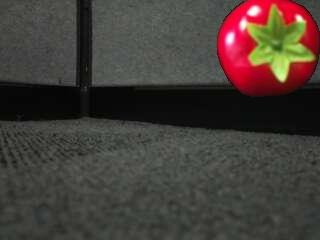Tomato: (216, 0, 319, 97)
